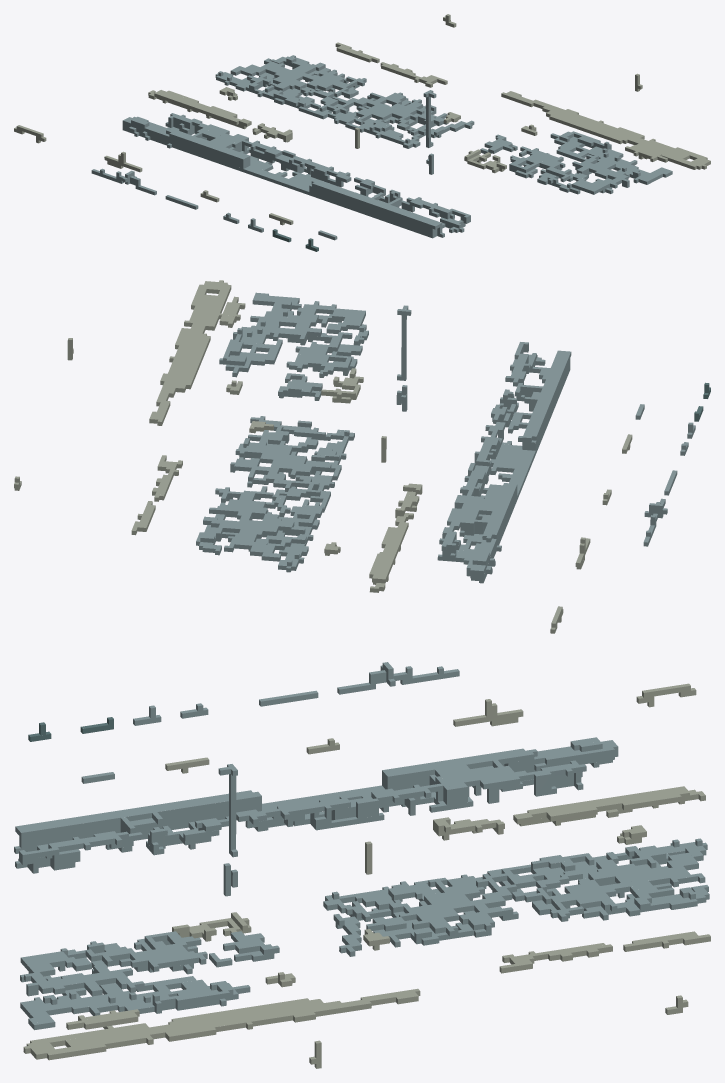
3 views of the same model, one above another, from view 1: azimuth 30°, elevation 25°; view 2: azimuth 150°, elevation 25°; view 3: azimuth 270°, elevation 25° (orthographic). The views are drawn at different scales.
Visible parts, largest first — view 1: measured-industrial; view 2: measured-industrial; view 3: measured-industrial.
Boxes of the visible parts, x1,y1,x2,y2 form: measured-industrial: (14, 14, 710, 251); measured-industrial: (14, 280, 710, 633); measured-industrial: (14, 662, 710, 1068).
Bounding box in the file's own units: 164 × 26.48 × 125.
